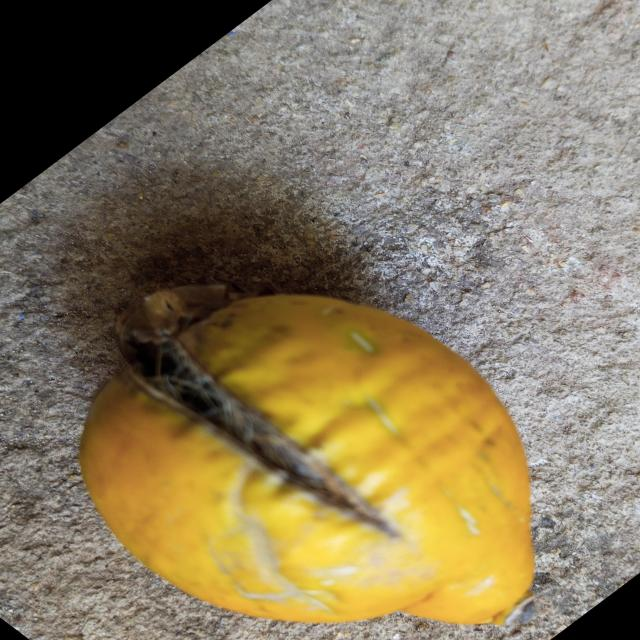damaged: (80, 284, 534, 625)
